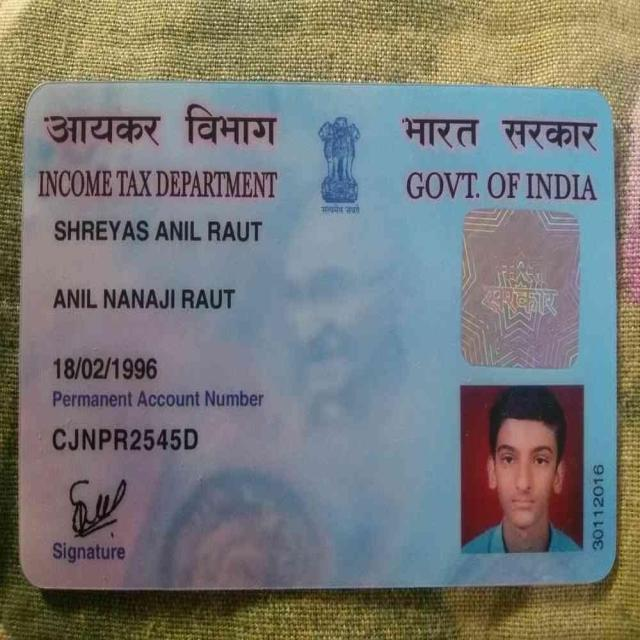pan_card: (26, 90, 612, 578)
